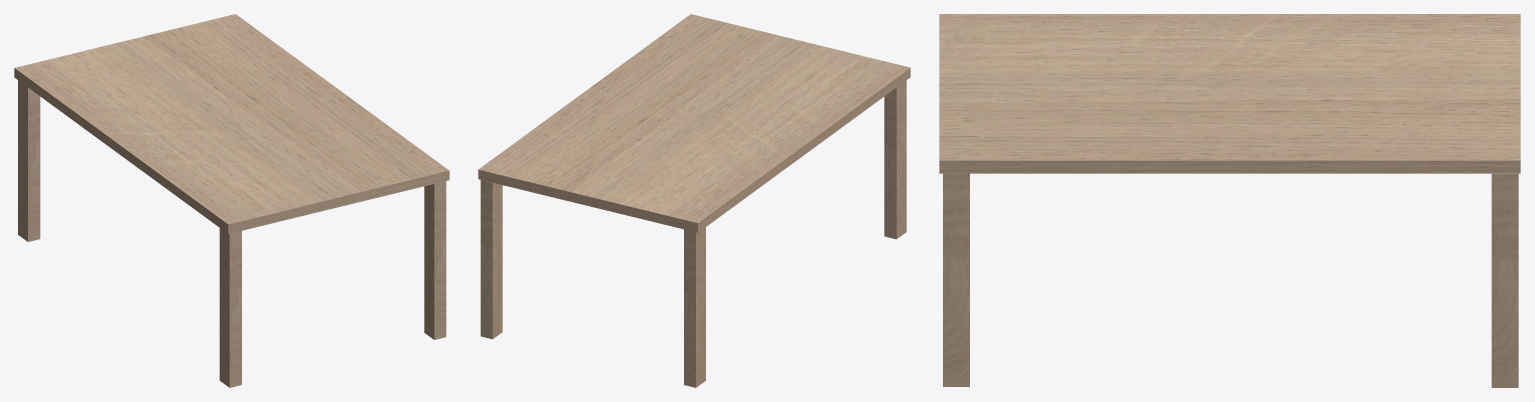
The model's file is mesa.gltf.
3 renders of one model, left to right at view 1: azimuth 30°, elevation 25°; view 2: azimuth 150°, elevation 25°; view 3: azimuth 270°, elevation 25°, orthographic. The views are drawn at different scales.
Visible parts, largest first — view 1: Cube, Cube.002, Cube.003, Cube.004; view 2: Cube, Cube.001, Cube.003, Cube.004; view 3: Cube, Cube.001, Cube.002.
Boxes of the visible parts, bbox=[...] form: Cube: bbox=[14, 14, 449, 233]; Cube.002: bbox=[424, 181, 446, 339]; Cube.003: bbox=[219, 228, 241, 387]; Cube.004: bbox=[18, 80, 40, 241]; Cube: bbox=[478, 14, 910, 232]; Cube.001: bbox=[480, 180, 502, 339]; Cube.003: bbox=[884, 80, 906, 239]; Cube.004: bbox=[684, 227, 705, 387]; Cube: bbox=[939, 14, 1520, 173]; Cube.001: bbox=[1491, 173, 1518, 387]; Cube.002: bbox=[943, 173, 969, 386].
Size of the model in its own units: 4.1 by 2.98 by 6.88.
1 material, 1 textured.
